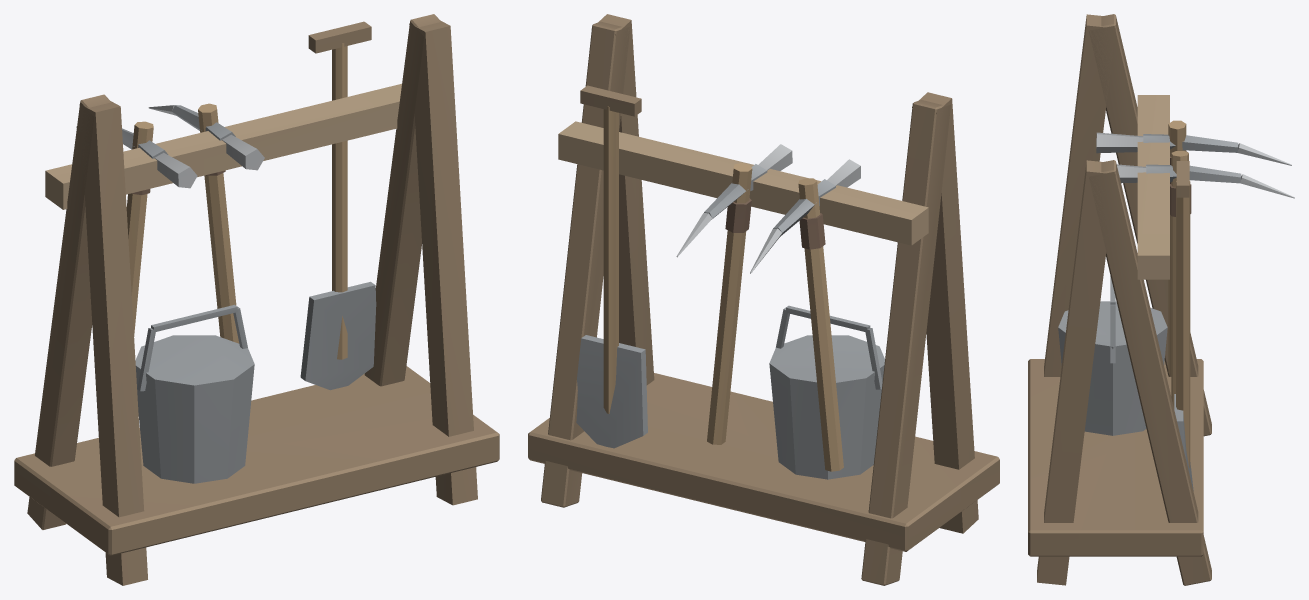
File: tool_rack.glb
3 views of the same model, side by side, from view 1: azimuth 30°, elevation 25°; view 2: azimuth 150°, elevation 25°; view 3: azimuth 270°, elevation 25° (orthographic). The views are drawn at different scales.
Parts seen in each view (by area): view 1: tool_rack; view 2: tool_rack; view 3: tool_rack.
Part boxes in pixels (x1,y1,x2,y2): tool_rack: (14, 14, 499, 585); tool_rack: (528, 14, 999, 585); tool_rack: (1028, 14, 1294, 585).
Bounding box in the file's own units: 1.4 × 1.57 × 0.9117.
